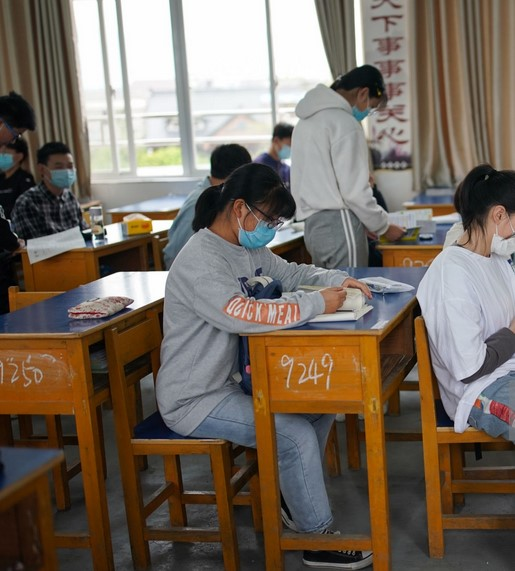face_with_mask: (219, 163, 296, 250), (460, 174, 515, 258), (333, 65, 388, 118), (39, 146, 74, 191), (0, 142, 28, 176), (269, 125, 294, 163)
